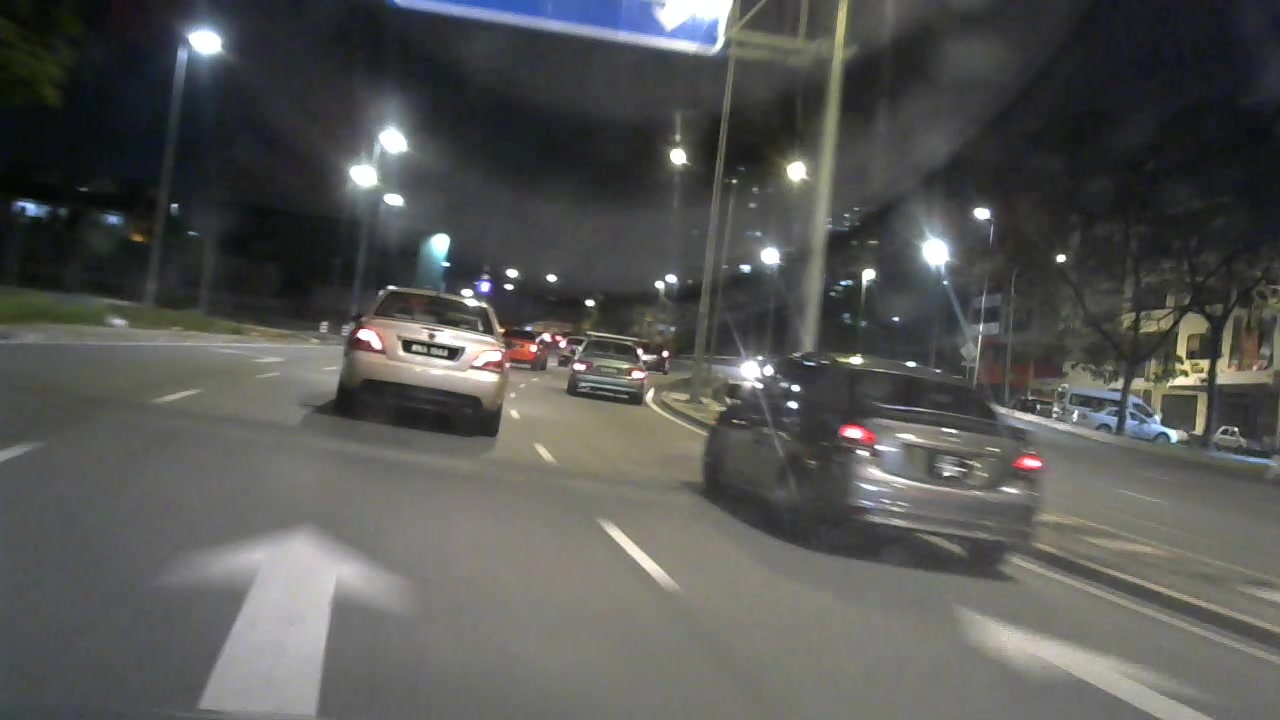Car: (695, 343, 1037, 573), (338, 281, 529, 440), (566, 335, 651, 406), (1078, 406, 1184, 451), (495, 330, 552, 373)
